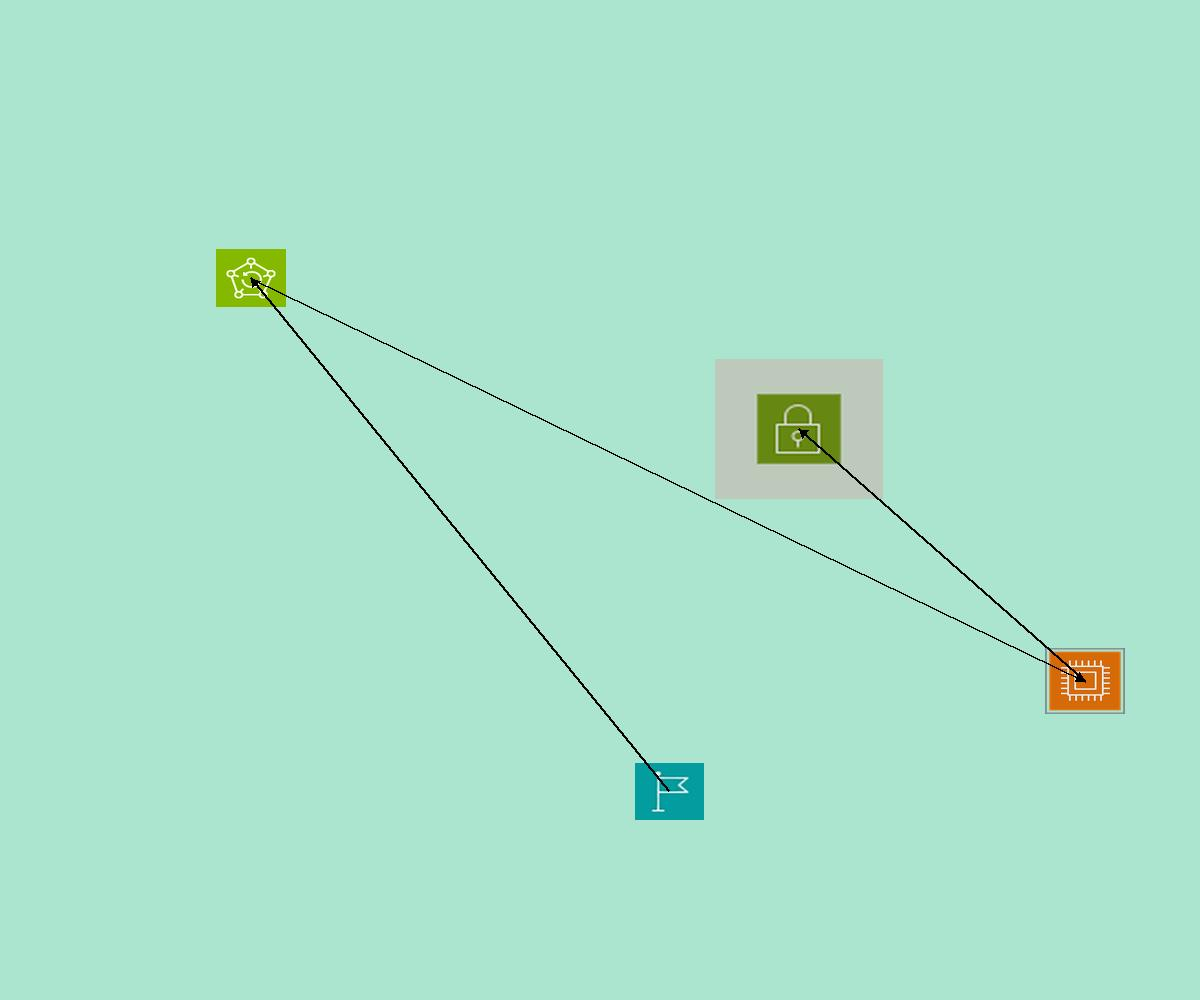AWS-Backup: (216, 249, 286, 307)
AWS-Category_Compute: (1045, 648, 1125, 714)
AWS-Public-subnet: (715, 359, 883, 499)
AWS-Region: (635, 763, 704, 820)
